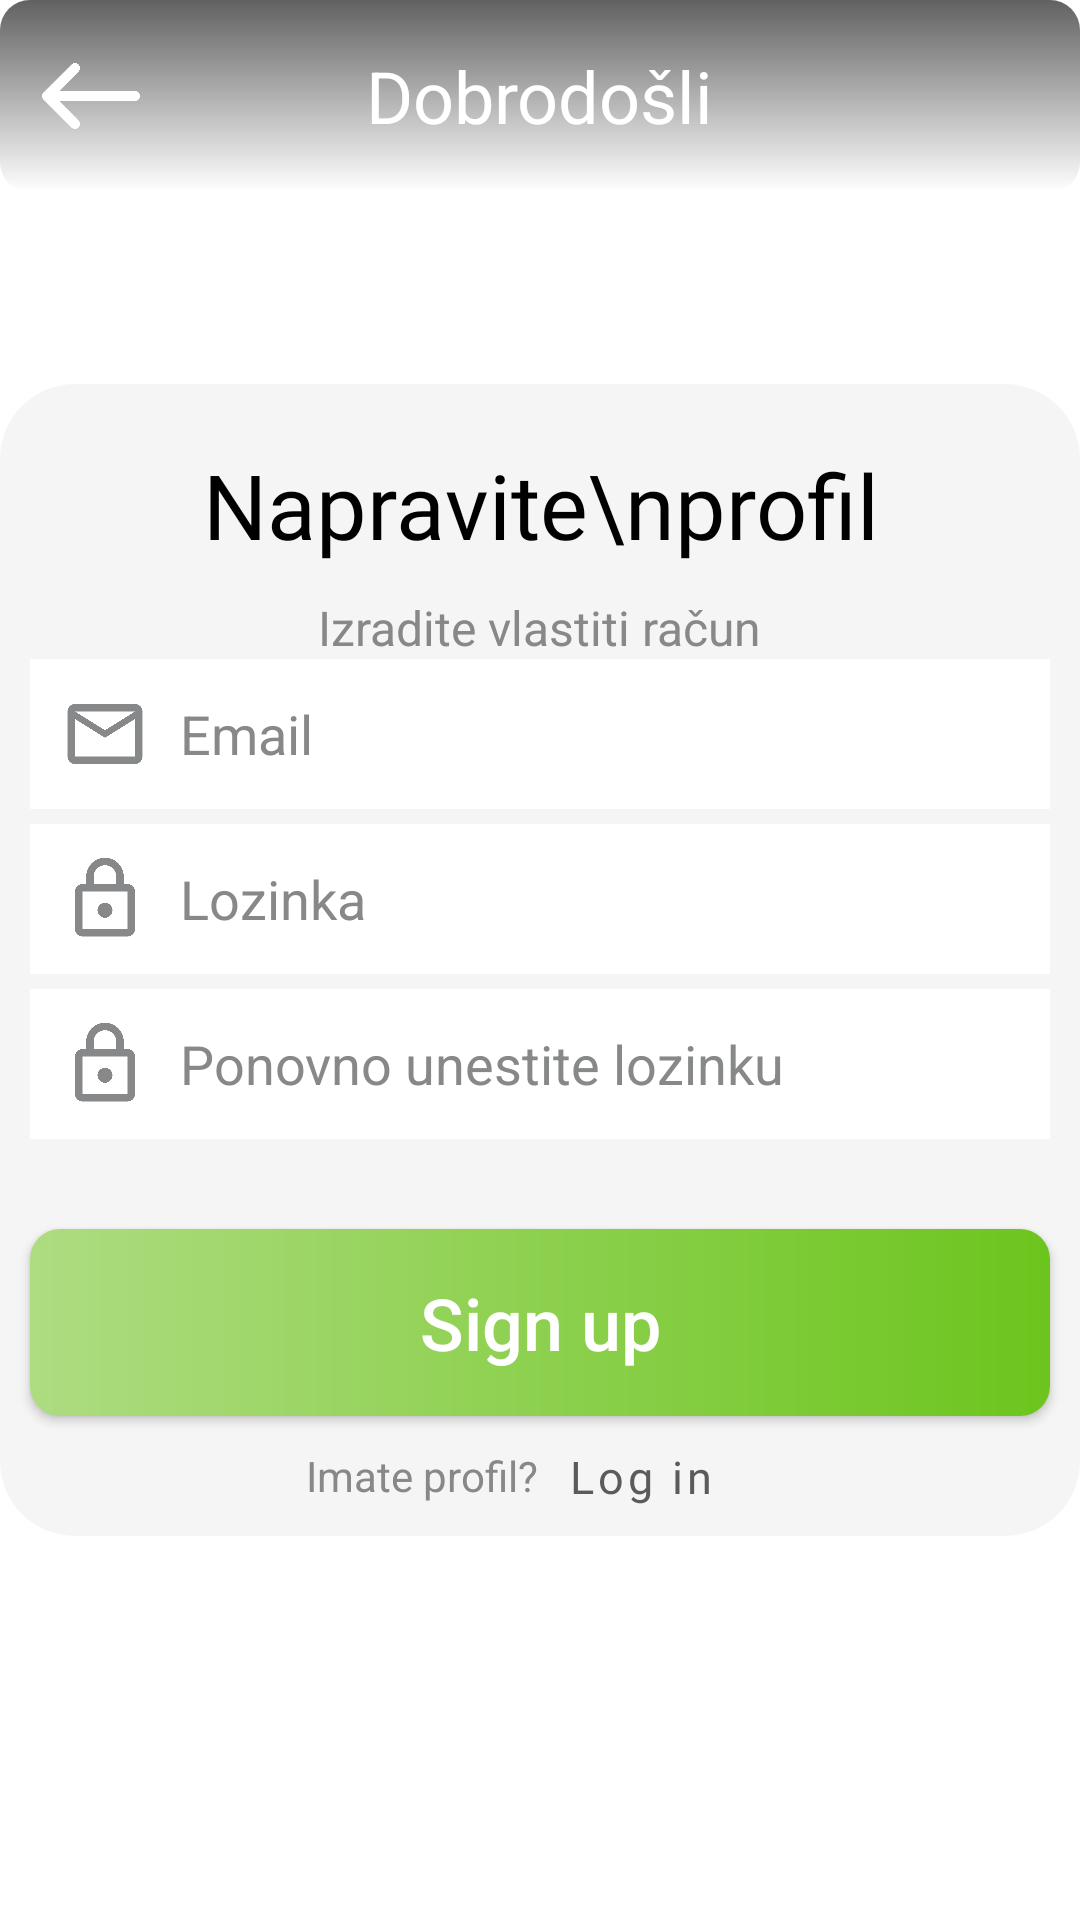

Icons on this 1080x1920 Android screen, each with the point to tap as [x,y]:
arrow: [90,96]
